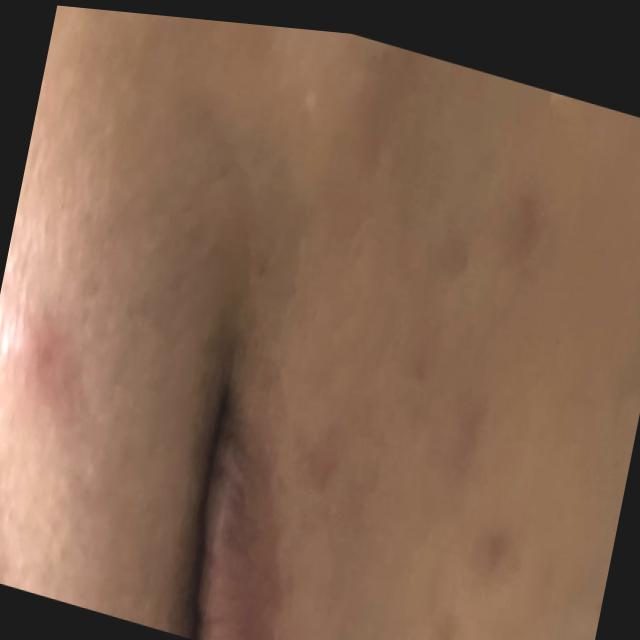papule: (0, 221, 90, 465)
